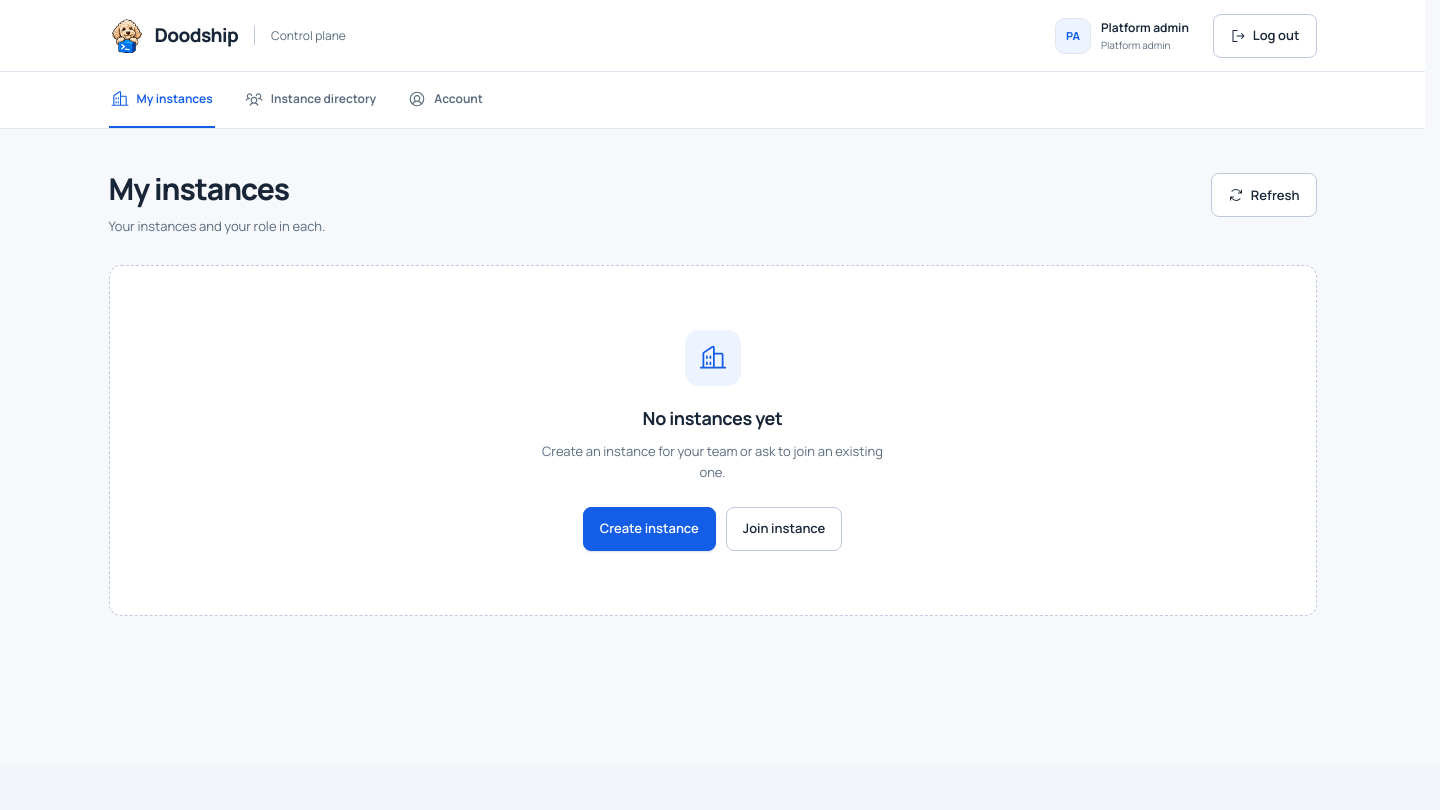
Scenario: gives a platform administrator metadata and usage without instance controls
The image size is (1440, 810).
Expected: the text "Create an instance for your team or ask to join an existing one." is shown, [530,441,895,483]
Click the button "Instance directory" at (310, 100), box [243,72,378,128]
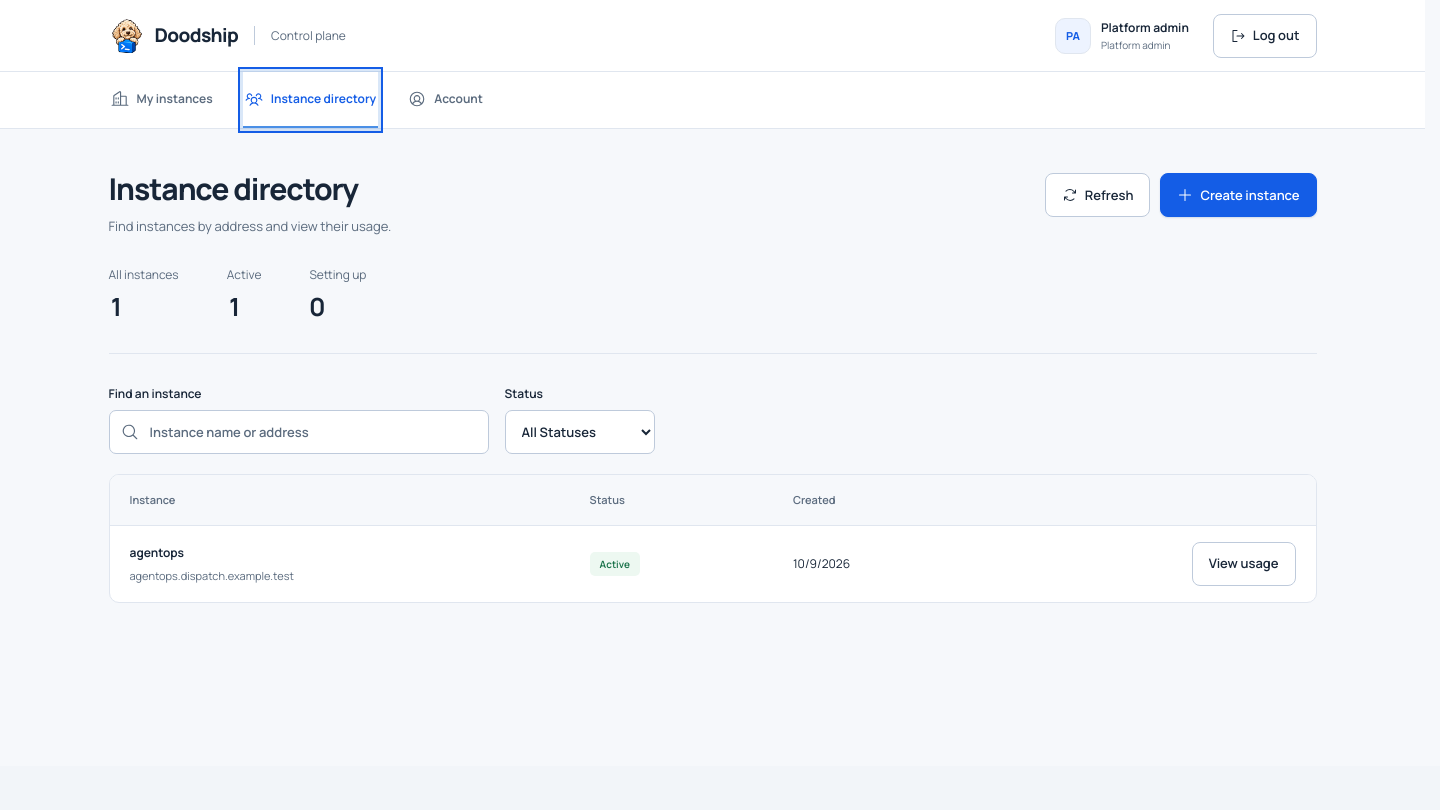
Expected: the button "Members" is not shown
Expected: the button "View usage" is shown
Click the button "View usage" at (1244, 564), box [1192,542,1296,586]
(page scrolled)
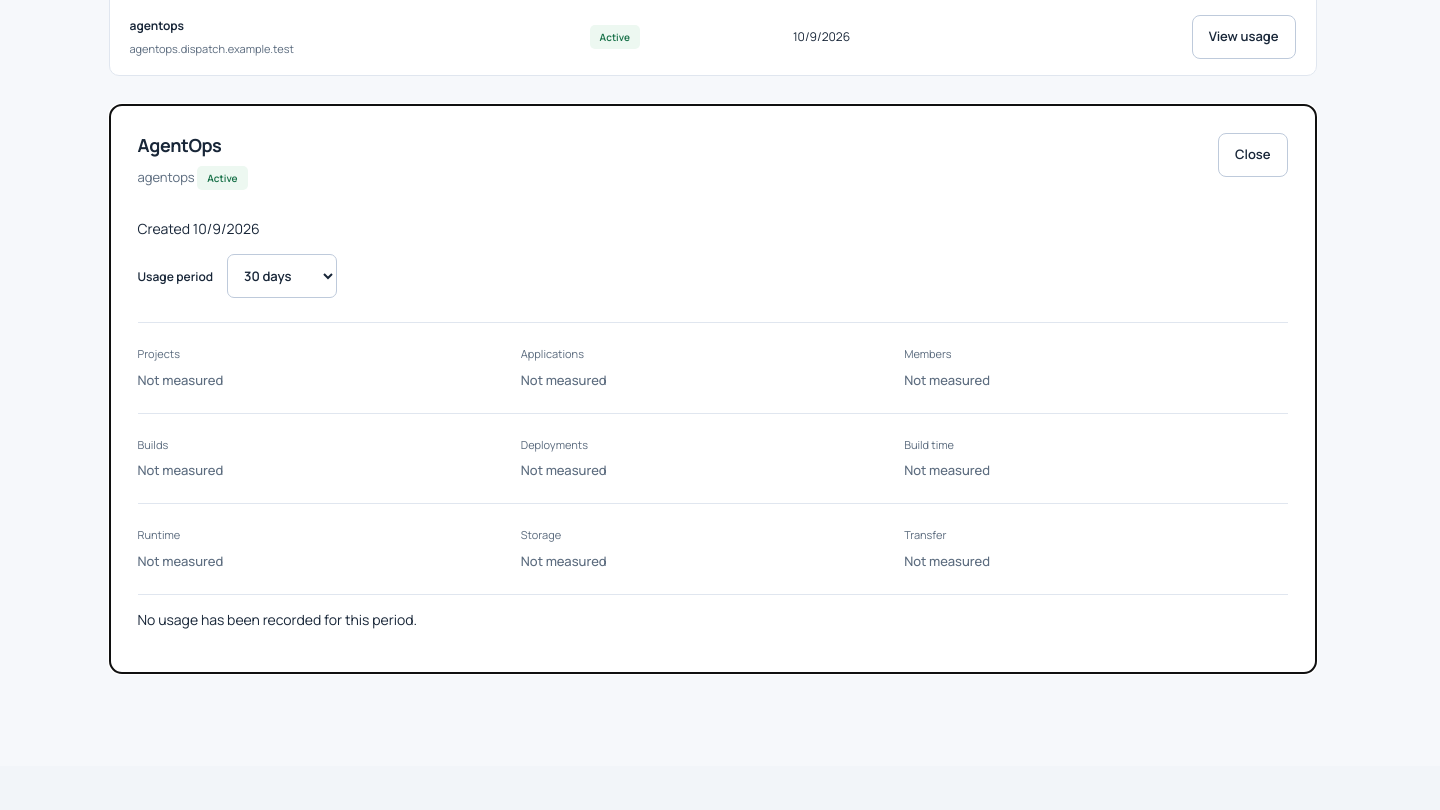
Expected: the text "No usage has been recorded for this period." is shown, [138,610,417,628]
